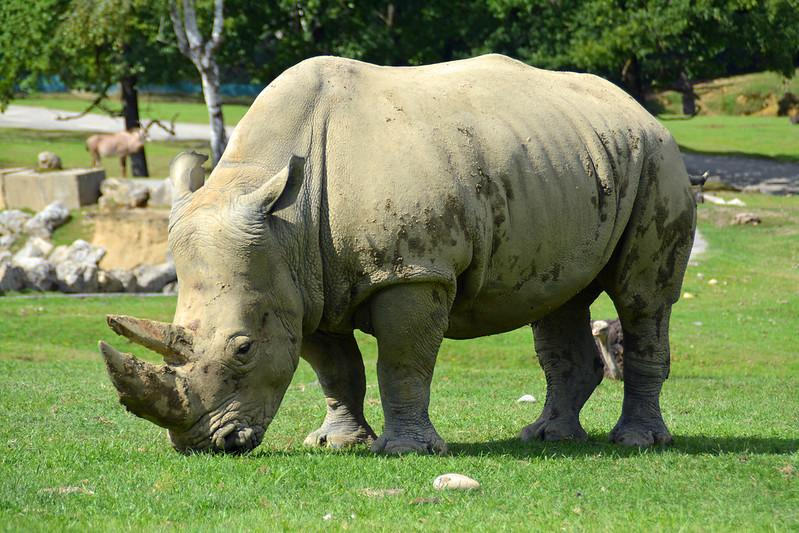rhinoceros: (89, 39, 728, 477)
